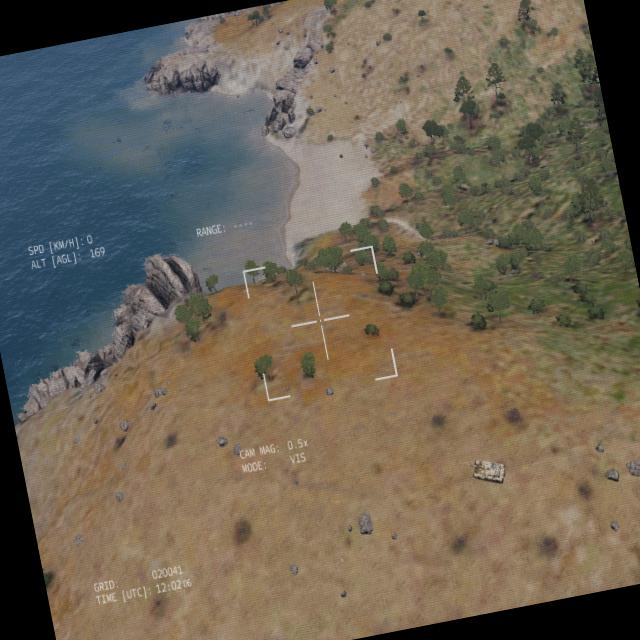tank: (458, 451, 508, 491)
